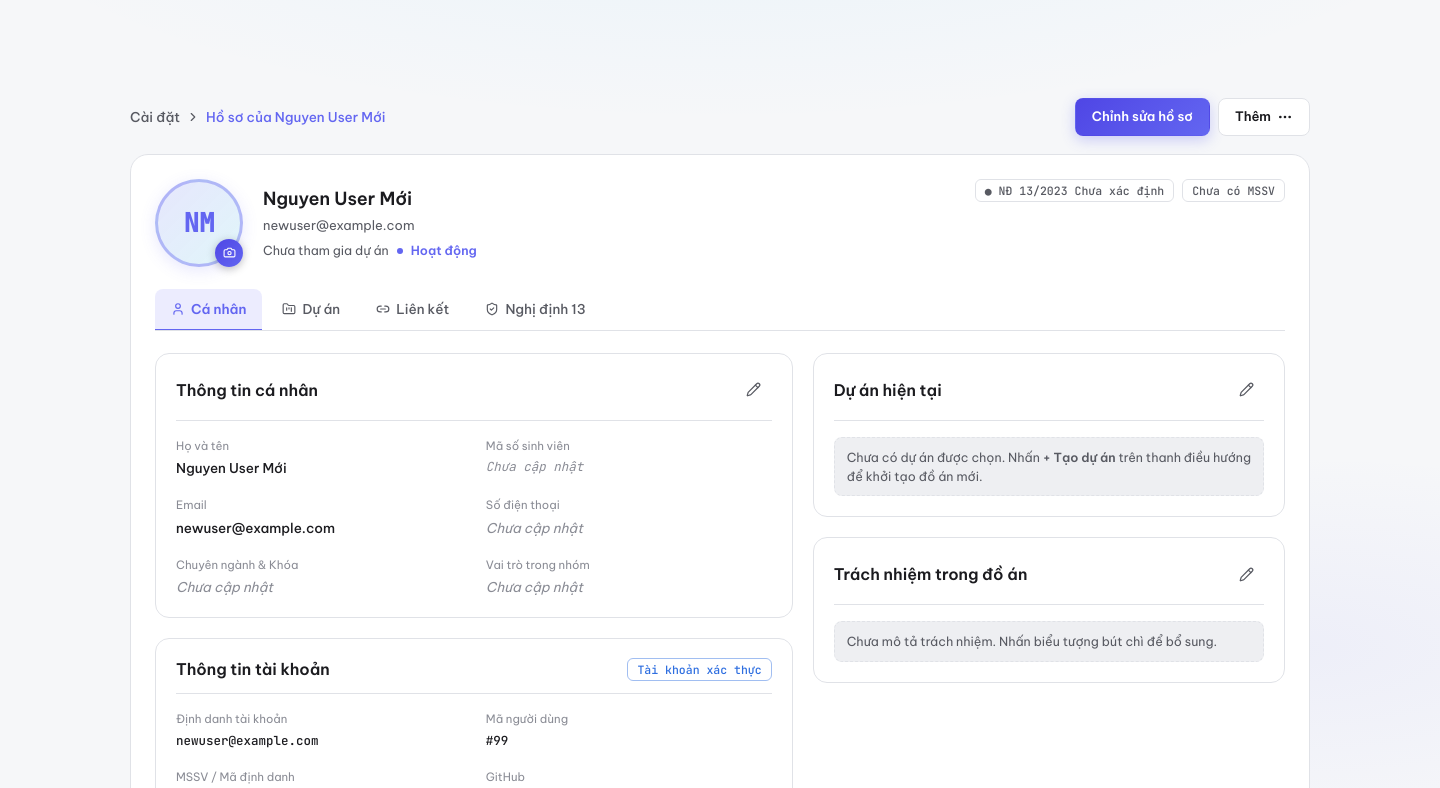
Scenario: ProfileSettingsPage Component Tests › allows user to enter custom MSSV and save profile updates to backend
Click the button "Chỉnh sửa hồ sơ". click: coordinates (1142, 117)
box: [1075,98,1210,136]
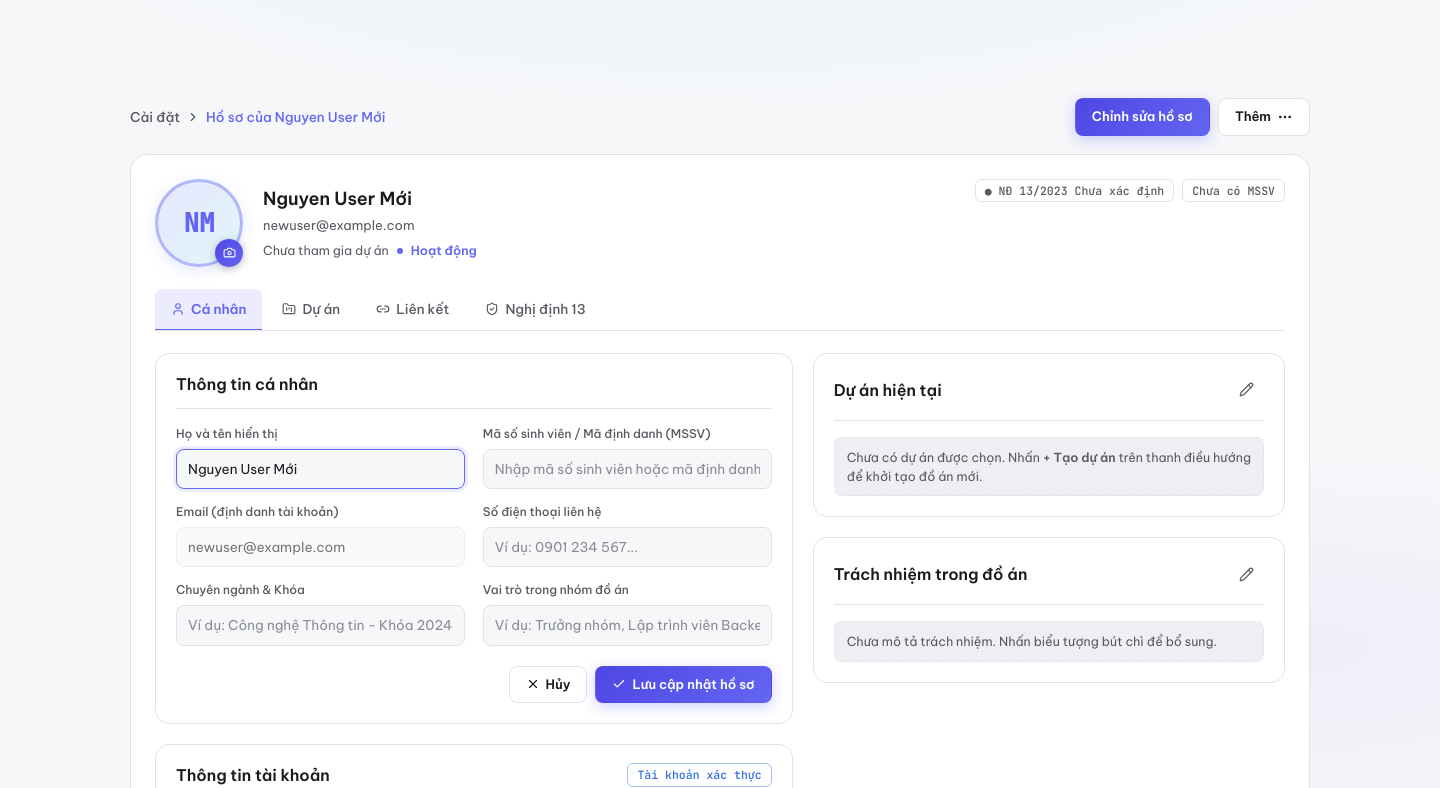
Type "2026999999" into the field with placeholder "Nhập mã số sinh viên hoặc mã định danh...". click: coordinates (627, 469)
box: [483,449,772,489]
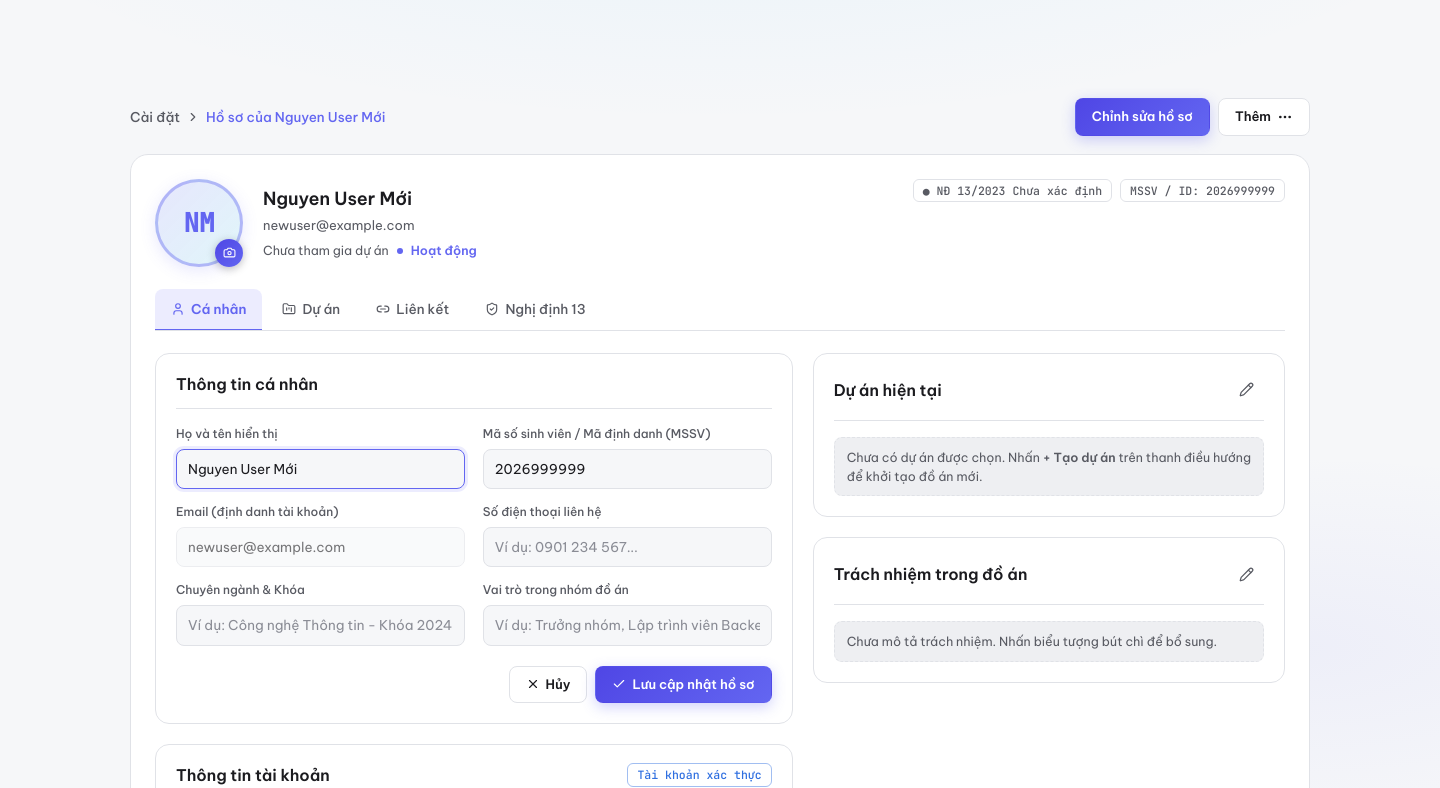
Type "0988776655" into the field with placeholder "Ví dụ: 0901 234 567...". click: coordinates (627, 547)
box: [483,527,772,567]
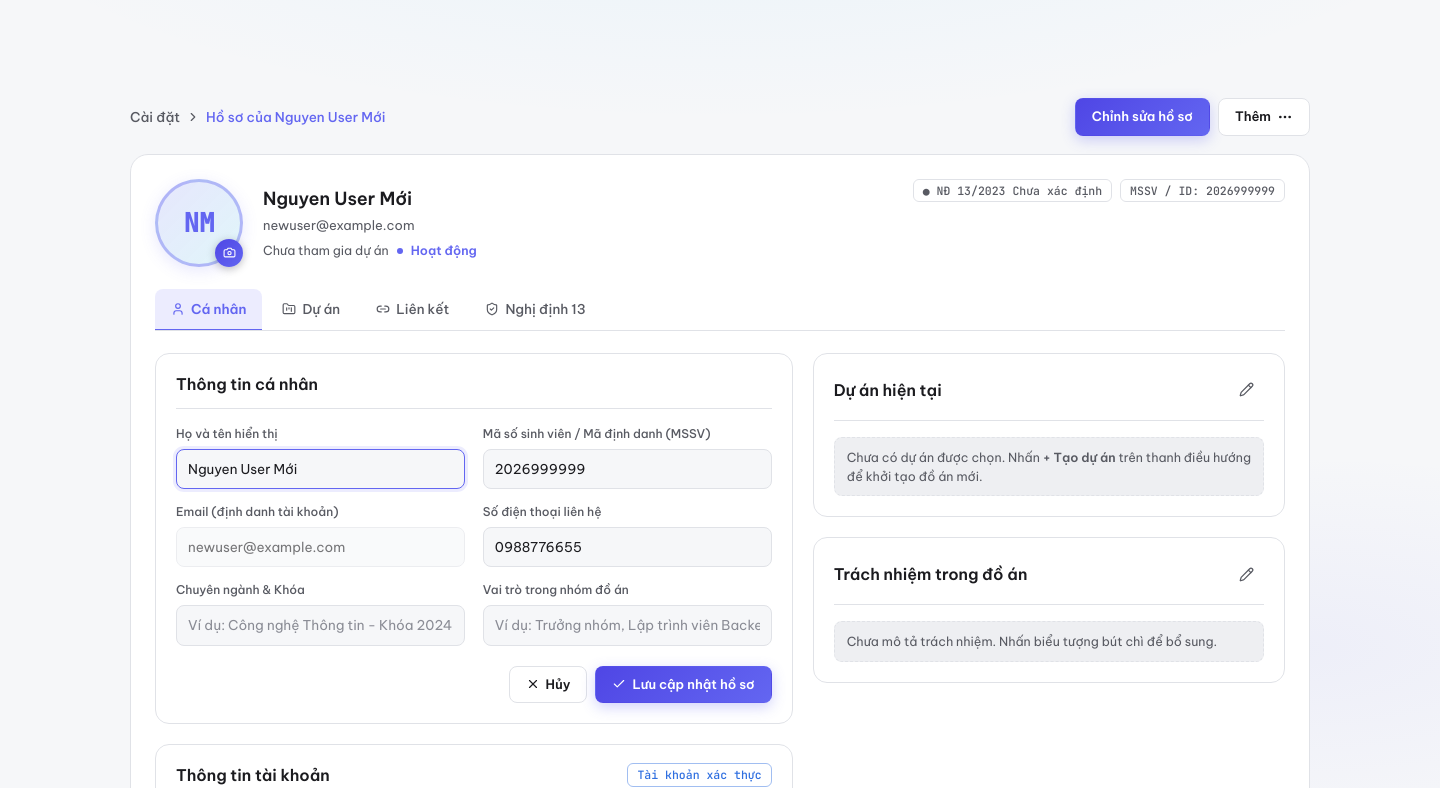
Click the button "Lưu cập nhật hồ sơ". click: coordinates (684, 684)
box: [596,666,772,703]
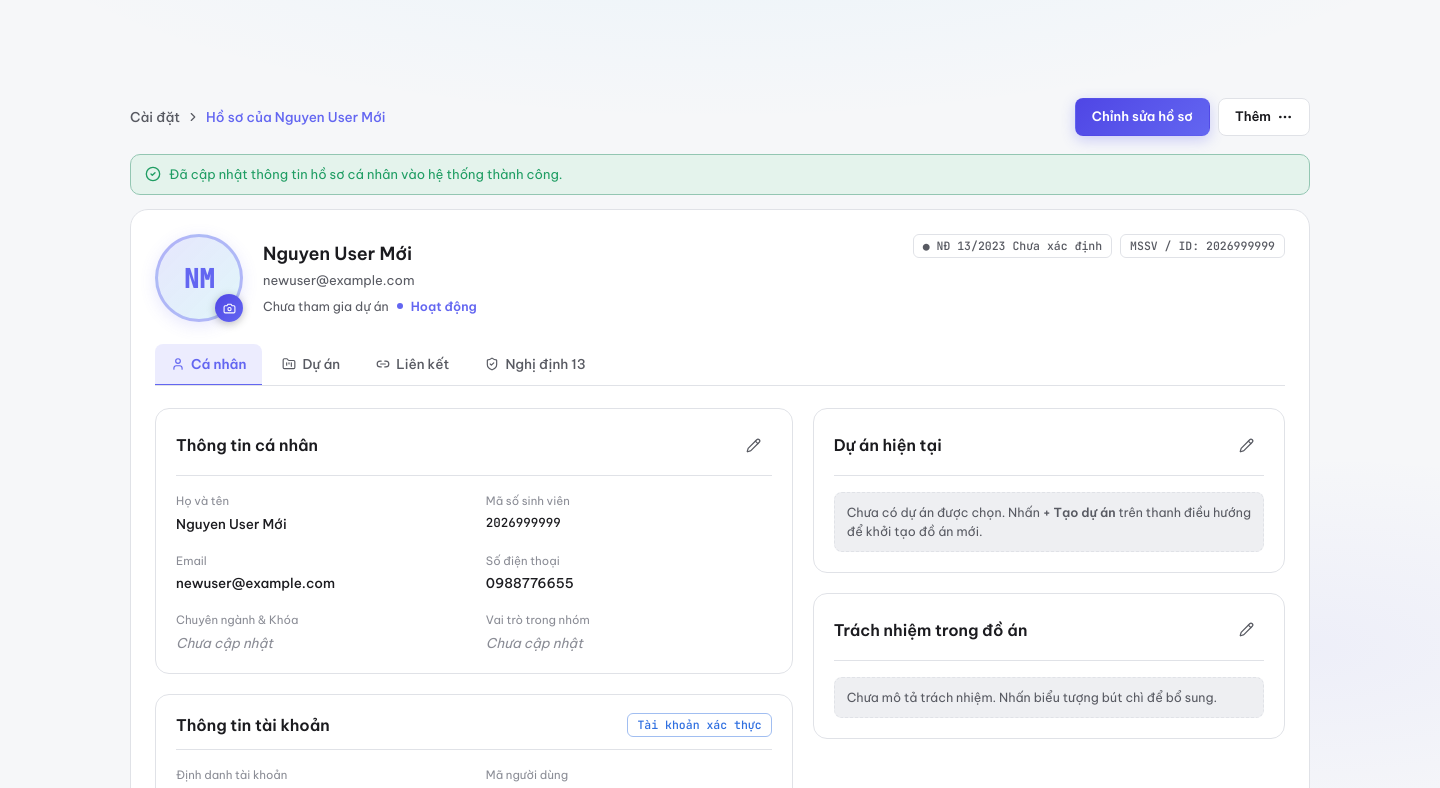
Expected: the text "Đã cập nhật thông tin hồ sơ cá nhân vào hệ thống thành công." is shown, [169,164,562,184]
Expected: the text "0988776655" is shown, [486,574,574,592]
